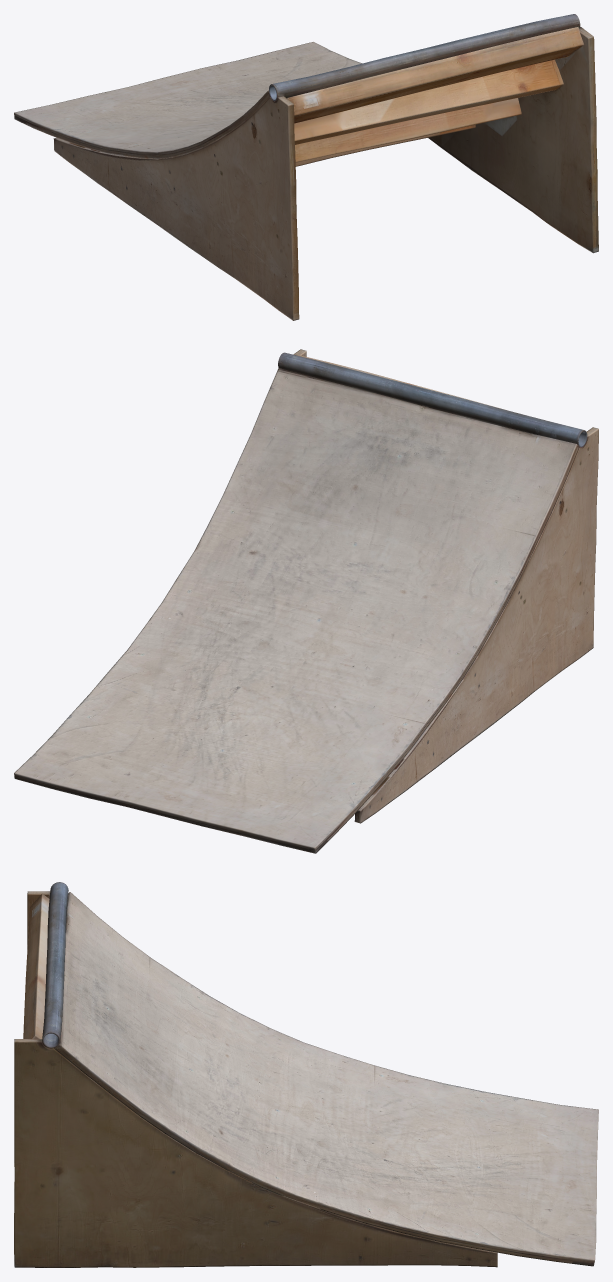
3 renders of one model, top to bottom at view 1: azimuth 30°, elevation 25°; view 2: azimuth 150°, elevation 25°; view 3: azimuth 270°, elevation 25°, orthographic. The views are drawn at different scales.
Visible parts, largest first — view 1: Skate ramp_Material #45_0; view 2: Skate ramp_Material #45_0; view 3: Skate ramp_Material #45_0.
Part boxes in pixels (left/top/right/bottom): Skate ramp_Material #45_0: left=14, top=14, right=598, bottom=320; Skate ramp_Material #45_0: left=14, top=349, right=598, bottom=853; Skate ramp_Material #45_0: left=14, top=882, right=598, bottom=1267.
Size of the model in its own units: 0.8885 by 0.6345 by 1.43.
1 material, 1 textured.
